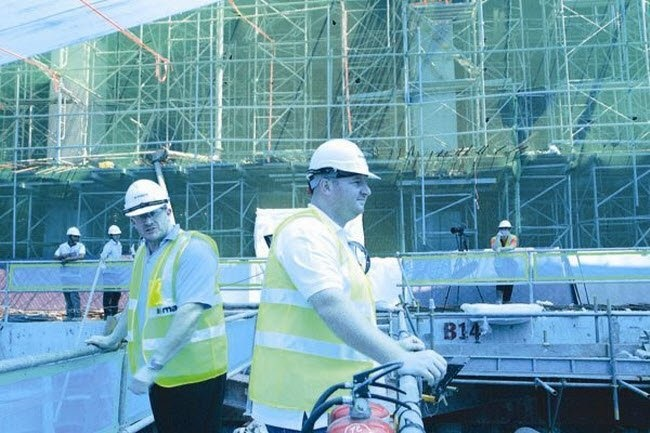white: (308, 138, 372, 220), (124, 181, 171, 241), (66, 226, 81, 243), (108, 223, 122, 241), (497, 218, 511, 235)
